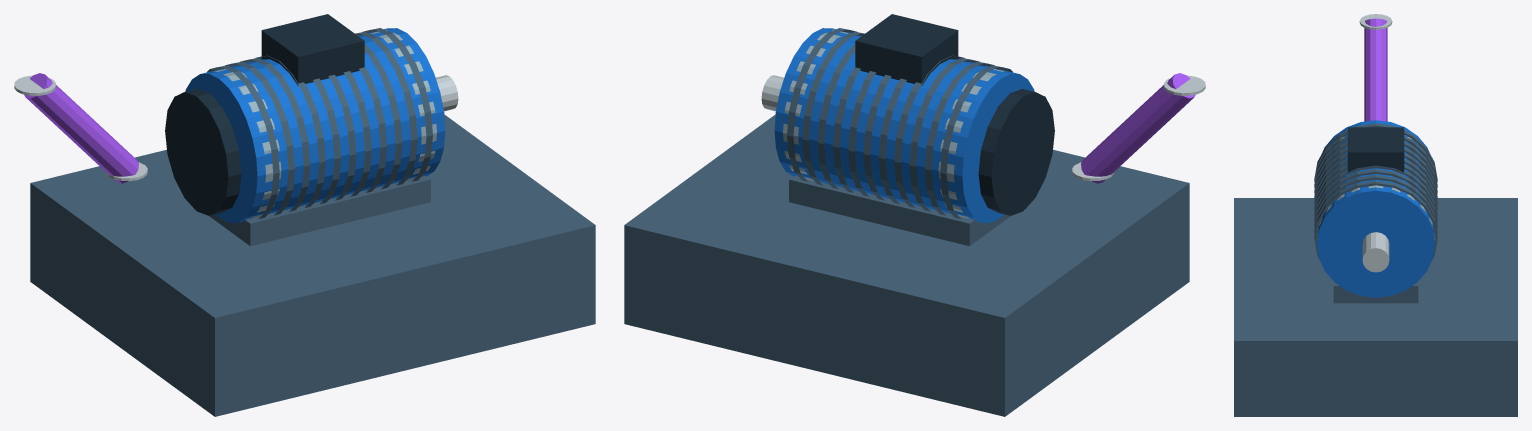
File: 35_L77_BarrierFluidMeteringPump.fbx
3 renders of one model, left to right at view 1: azimuth 30°, elevation 25°; view 2: azimuth 150°, elevation 25°; view 3: azimuth 270°, elevation 25°, orthographic. The views are drawn at different scales.
Parts seen in each view (by area): view 1: BarrierFluidMeteringPump, BarrierFluidMeteringPump_Part_0001, BarrierFluidMeteringPump_Part_0014, BarrierFluidMeteringPump_Part_0015, BarrierFluidMeteringPump_Part_0016, BarrierFluidMeteringPump_Part_0002, BarrierFluidMeteringPump_Part_0003, BarrierFluidMeteringPump_Part_0012, BarrierFluidMeteringPump_Part_0004, BarrierFluidMeteringPump_Part_0011, BarrierFluidMeteringPump_Part_0010, BarrierFluidMeteringPump_Part_0005 (+7 smaller); view 2: BarrierFluidMeteringPump, BarrierFluidMeteringPump_Part_0001, BarrierFluidMeteringPump_Part_0014, BarrierFluidMeteringPump_Part_0015, BarrierFluidMeteringPump_Part_0016, BarrierFluidMeteringPump_Part_0002, BarrierFluidMeteringPump_Part_0003, BarrierFluidMeteringPump_Part_0012, BarrierFluidMeteringPump_Part_0004, BarrierFluidMeteringPump_Part_0011, BarrierFluidMeteringPump_Part_0010, BarrierFluidMeteringPump_Part_0005 (+7 smaller); view 3: BarrierFluidMeteringPump, BarrierFluidMeteringPump_Part_0001, BarrierFluidMeteringPump_Part_0016, BarrierFluidMeteringPump_Part_0015, BarrierFluidMeteringPump_Part_0013, BarrierFluidMeteringPump_Part_0012, BarrierFluidMeteringPump_Part_0010, BarrierFluidMeteringPump_Part_0011, BarrierFluidMeteringPump_Part_0009, BarrierFluidMeteringPump_Part_0002, BarrierFluidMeteringPump_Part_0004, BarrierFluidMeteringPump_Part_0008 (+4 smaller).
Boxes of the visible parts, x1,y1,x2,y2 form: BarrierFluidMeteringPump: [14, 73, 595, 416]; BarrierFluidMeteringPump_Part_0001: [185, 28, 445, 222]; BarrierFluidMeteringPump_Part_0014: [165, 89, 241, 215]; BarrierFluidMeteringPump_Part_0015: [209, 176, 430, 246]; BarrierFluidMeteringPump_Part_0016: [261, 14, 364, 85]; BarrierFluidMeteringPump_Part_0002: [207, 65, 279, 218]; BarrierFluidMeteringPump_Part_0003: [225, 61, 294, 215]; BarrierFluidMeteringPump_Part_0012: [363, 28, 432, 181]; BarrierFluidMeteringPump_Part_0004: [240, 58, 310, 211]; BarrierFluidMeteringPump_Part_0011: [355, 31, 417, 185]; BarrierFluidMeteringPump_Part_0010: [364, 43, 402, 189]; BarrierFluidMeteringPump_Part_0005: [255, 55, 325, 207]; BarrierFluidMeteringPump: [624, 73, 1205, 416]; BarrierFluidMeteringPump_Part_0001: [774, 28, 1034, 222]; BarrierFluidMeteringPump_Part_0014: [978, 89, 1054, 215]; BarrierFluidMeteringPump_Part_0015: [789, 176, 1010, 246]; BarrierFluidMeteringPump_Part_0016: [855, 14, 958, 85]; BarrierFluidMeteringPump_Part_0002: [940, 65, 1012, 218]; BarrierFluidMeteringPump_Part_0003: [925, 61, 994, 215]; BarrierFluidMeteringPump_Part_0012: [787, 28, 856, 181]; BarrierFluidMeteringPump_Part_0004: [909, 58, 979, 211]; BarrierFluidMeteringPump_Part_0011: [802, 31, 864, 185]; BarrierFluidMeteringPump_Part_0010: [817, 43, 855, 189]; BarrierFluidMeteringPump_Part_0005: [894, 55, 964, 207]; BarrierFluidMeteringPump: [1234, 14, 1517, 416]; BarrierFluidMeteringPump_Part_0001: [1317, 120, 1434, 297]; BarrierFluidMeteringPump_Part_0016: [1347, 127, 1404, 172]; BarrierFluidMeteringPump_Part_0015: [1333, 282, 1418, 303]; BarrierFluidMeteringPump_Part_0013: [1362, 232, 1389, 272]; BarrierFluidMeteringPump_Part_0012: [1314, 180, 1437, 260]; BarrierFluidMeteringPump_Part_0010: [1314, 169, 1437, 228]; BarrierFluidMeteringPump_Part_0011: [1314, 175, 1437, 233]; BarrierFluidMeteringPump_Part_0009: [1314, 165, 1437, 222]; BarrierFluidMeteringPump_Part_0002: [1314, 123, 1437, 182]; BarrierFluidMeteringPump_Part_0004: [1314, 142, 1437, 193]; BarrierFluidMeteringPump_Part_0008: [1314, 165, 1437, 216].
Bounding box in the file's own units: 175 × 101 × 115.
